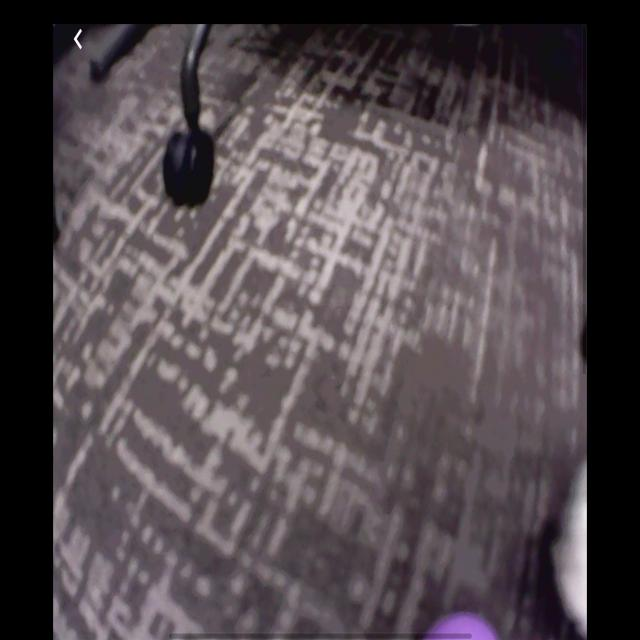ball: (429, 611, 501, 640)
